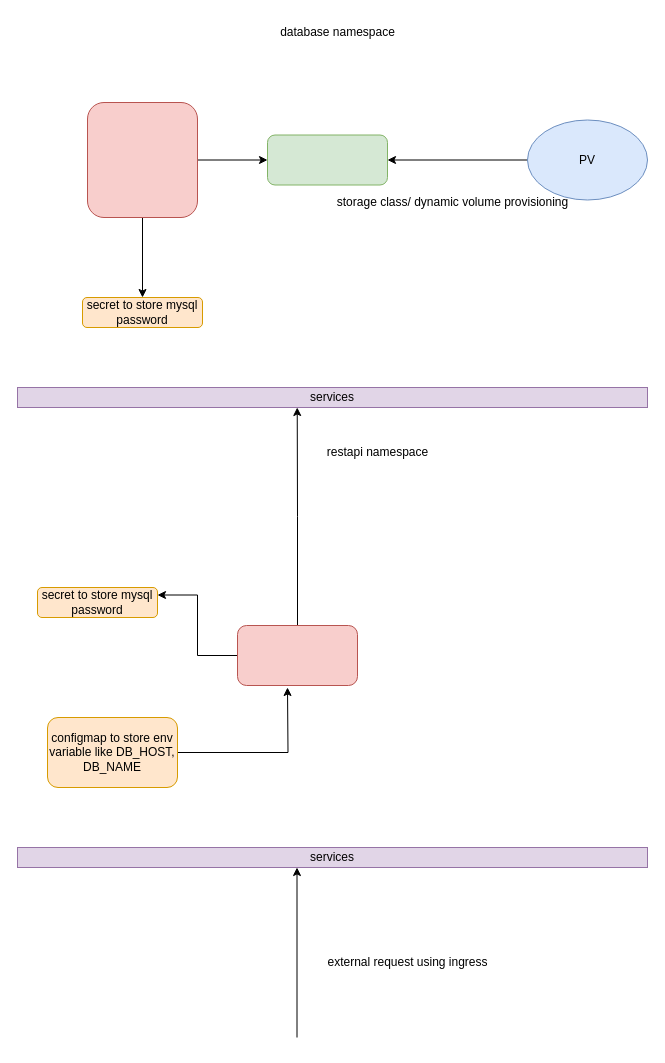
This 665x1063 diagram has some shape labels left out. Each missing label, with the box of its shape:
library deployment: (236, 624, 358, 686)
mysql as deployment: (86, 102, 198, 218)
persistent volume clain: (266, 134, 388, 185)
